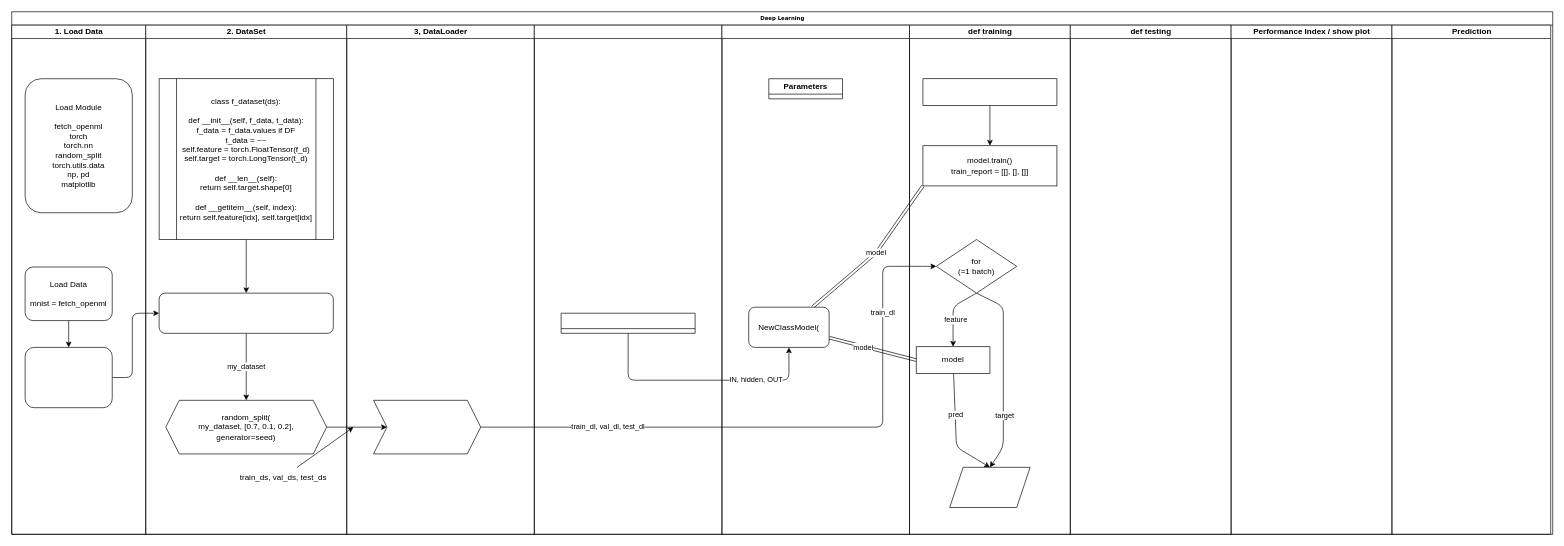
Some shapes in this 1564 by 546 pixel diagram are drawn without their labels. Each missing label, with the box of its shape:
class ClsfiModel(nn.Model):: (560, 313, 695, 333)
DataLoader( ds, batch_size ): (373, 400, 481, 454)
def training():: (922, 78, 1057, 106)
feature = mnist.data target = mnist.target: (24, 347, 112, 408)
Model Class: (534, 24, 722, 534)
my_dataset = f_dataset(feature, target): (158, 292, 333, 333)
Prepare training: (721, 24, 910, 534)
train result: (949, 467, 1030, 508)
